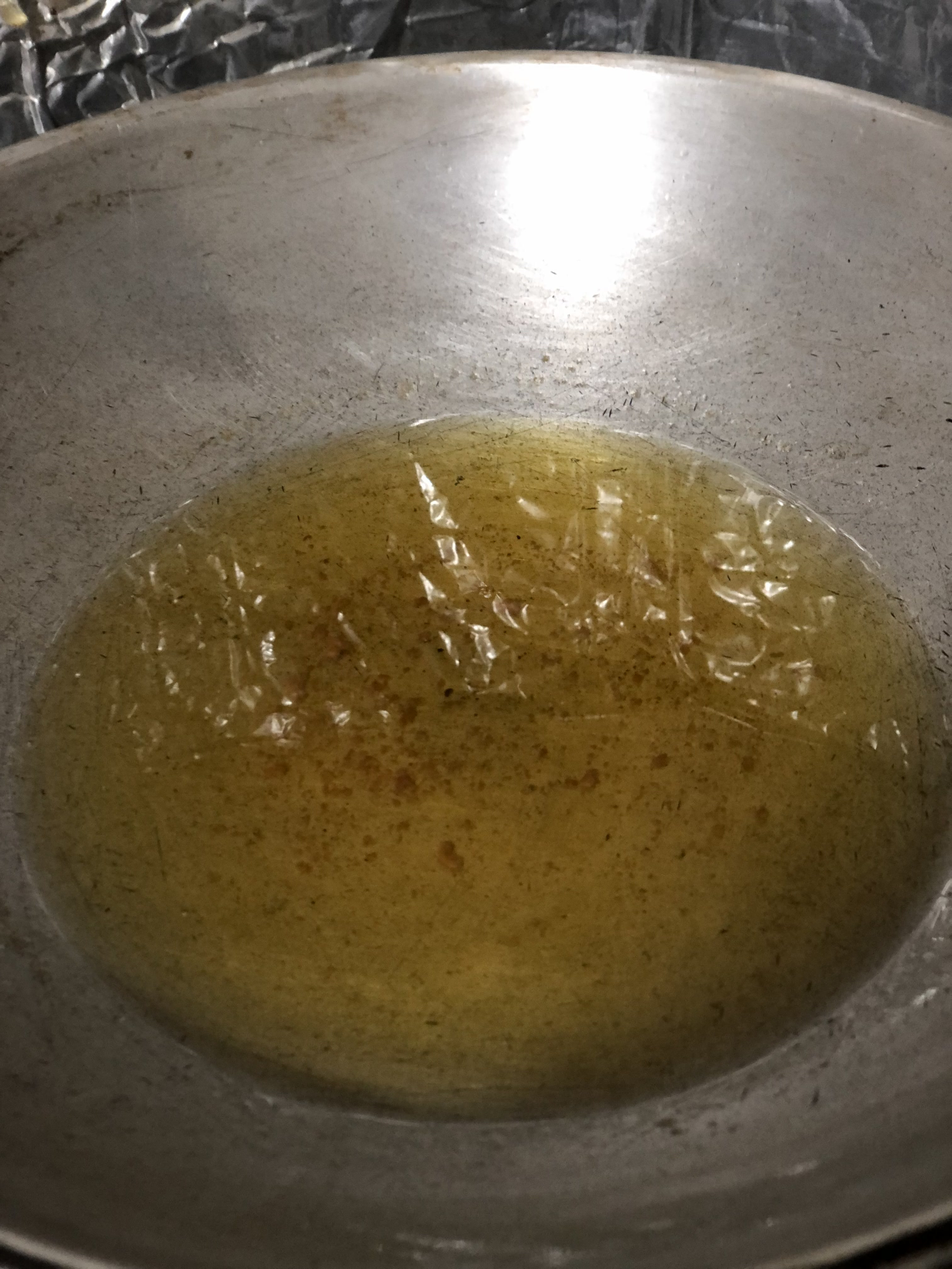reusable: (28, 422, 952, 1117)
